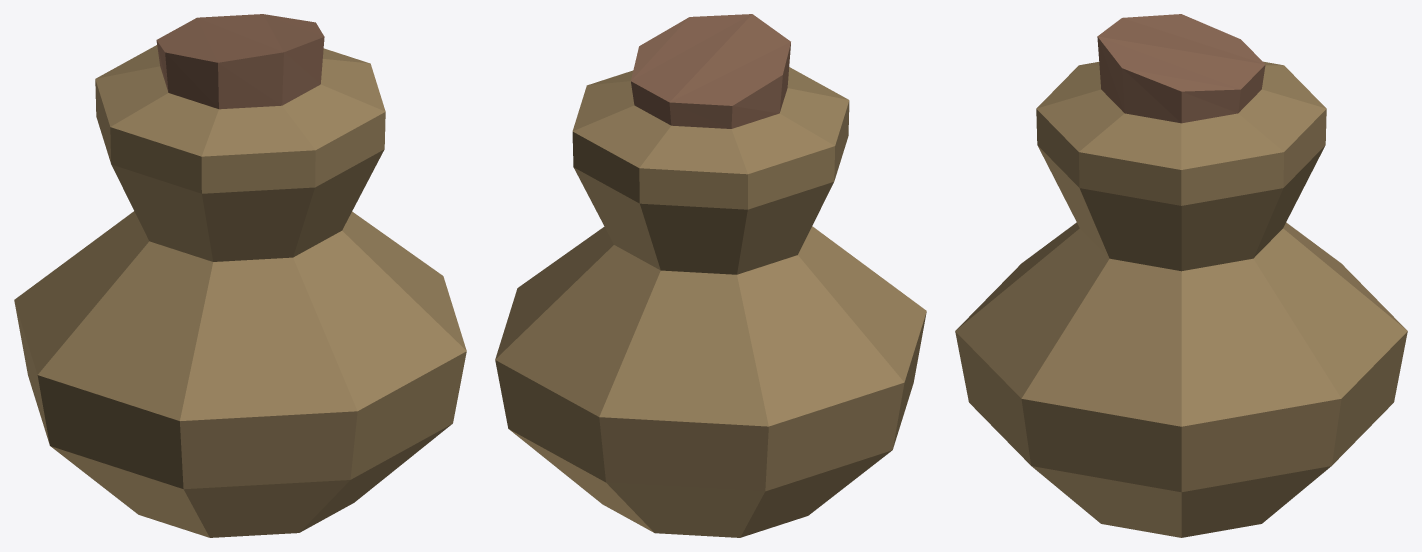
The model's file is Pot_3.fbx.
3 views of the same model, side by side, from view 1: azimuth 30°, elevation 25°; view 2: azimuth 150°, elevation 25°; view 3: azimuth 270°, elevation 25° (orthographic). The views are drawn at different scales.
Parts seen in each view (by area): view 1: polySurface1236; view 2: polySurface1236; view 3: polySurface1236.
Boxes of the visible parts, left/top/right/bottom form: polySurface1236: left=14, top=14, right=466, bottom=537; polySurface1236: left=495, top=14, right=926, bottom=537; polySurface1236: left=955, top=14, right=1407, bottom=537.
Bounding box in the file's own units: 38.98 × 43.08 × 38.98.
